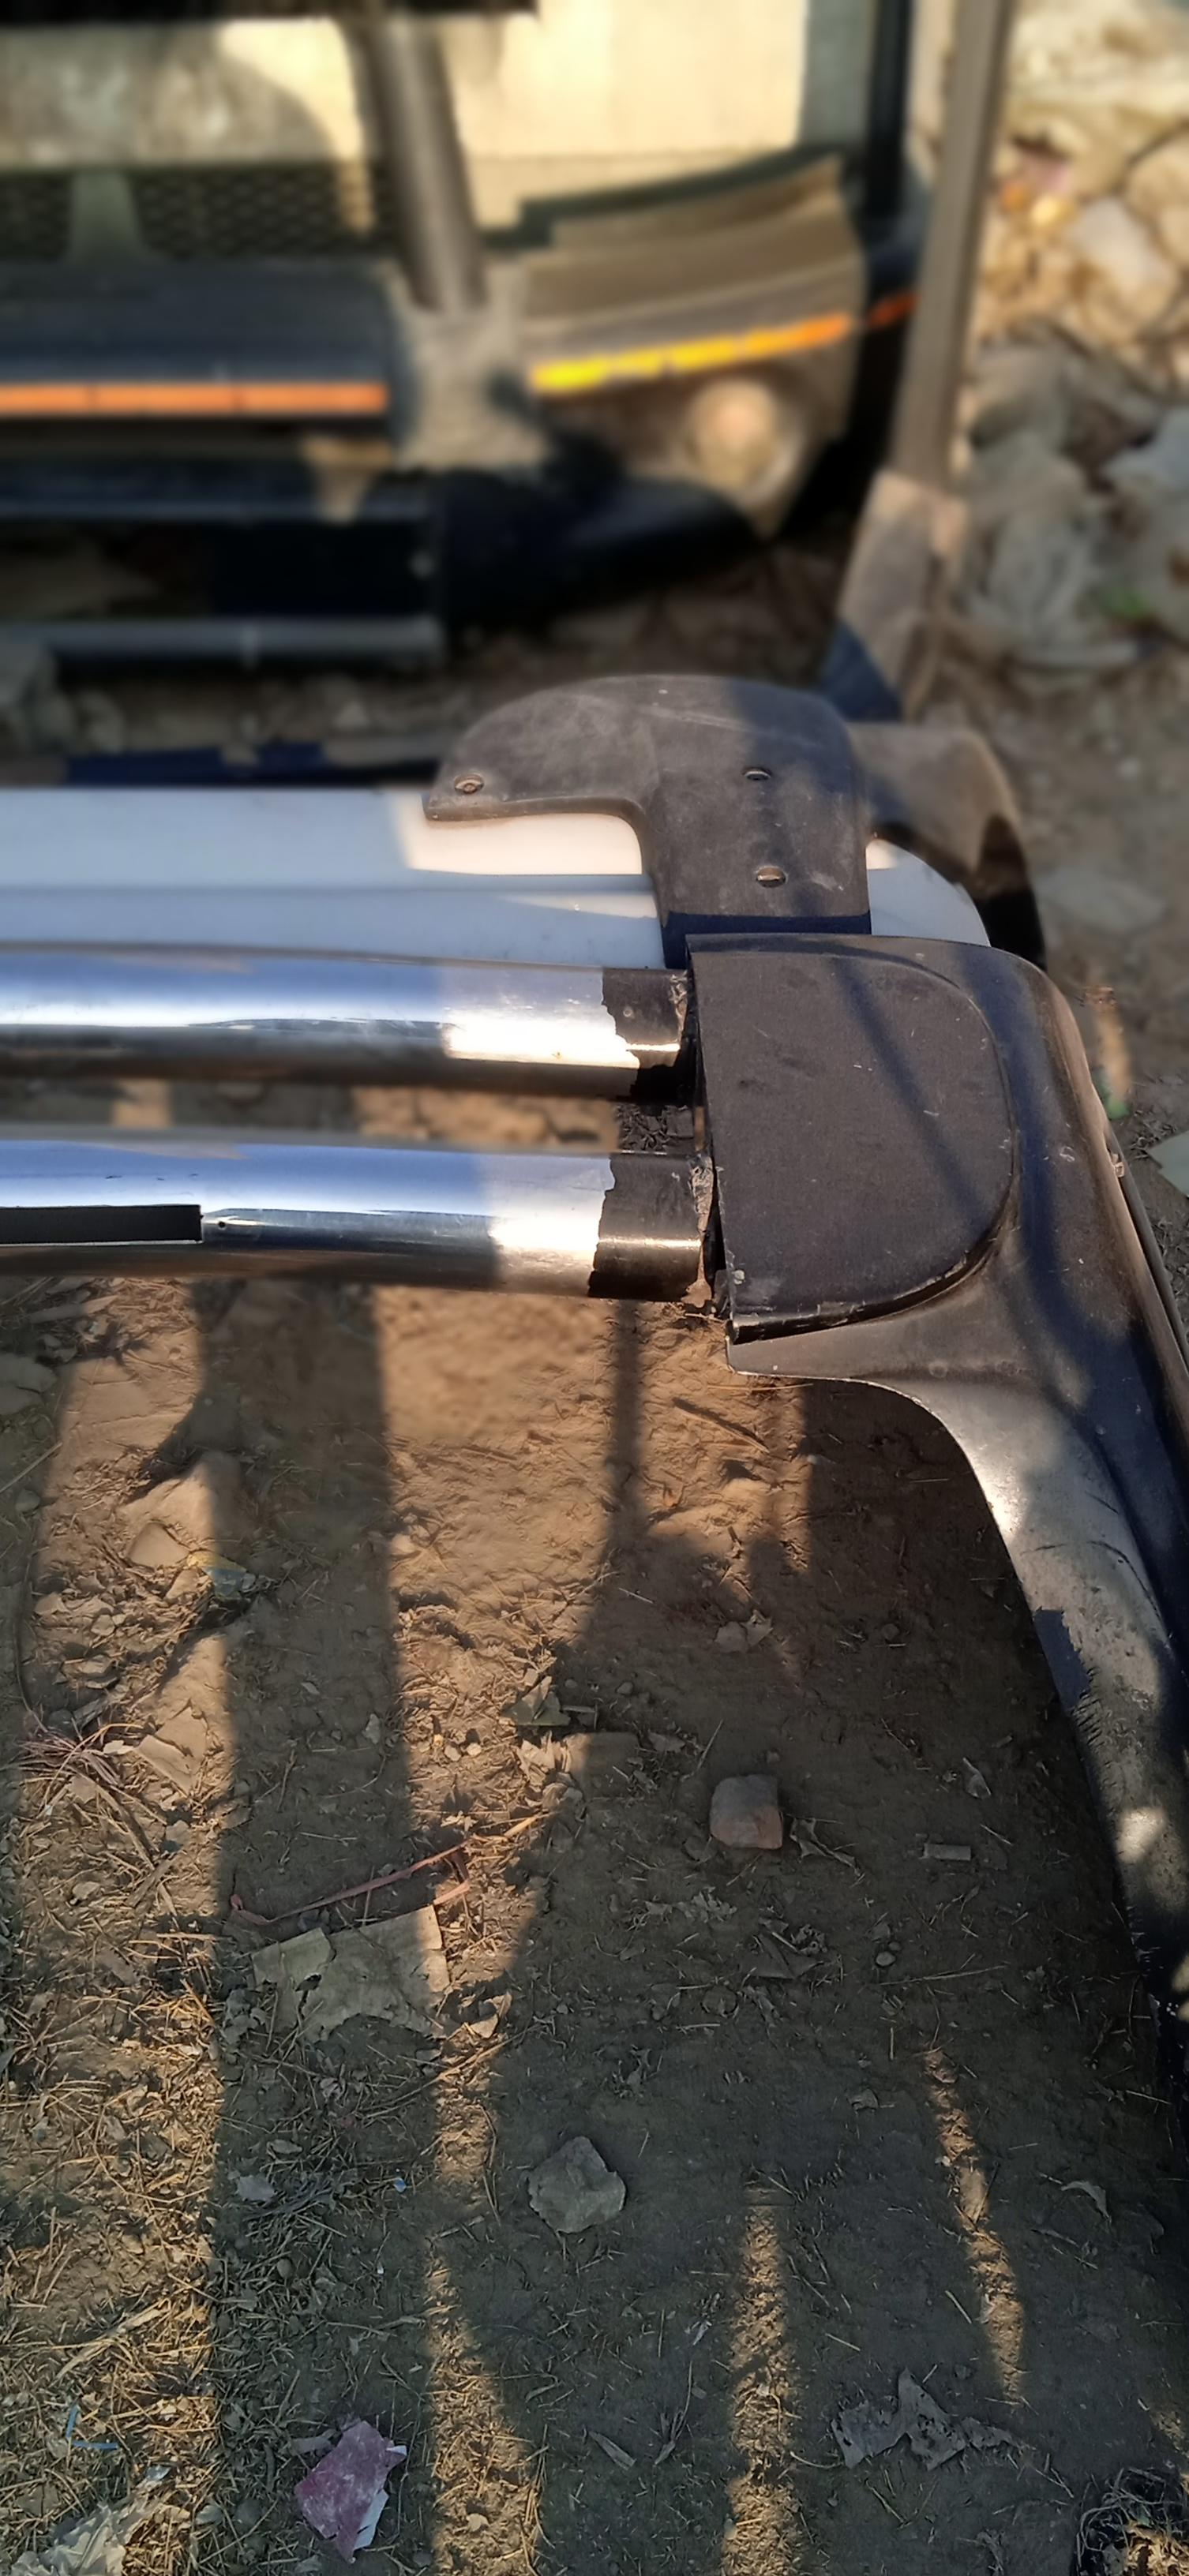automobile: (0, 652, 1189, 2058)
